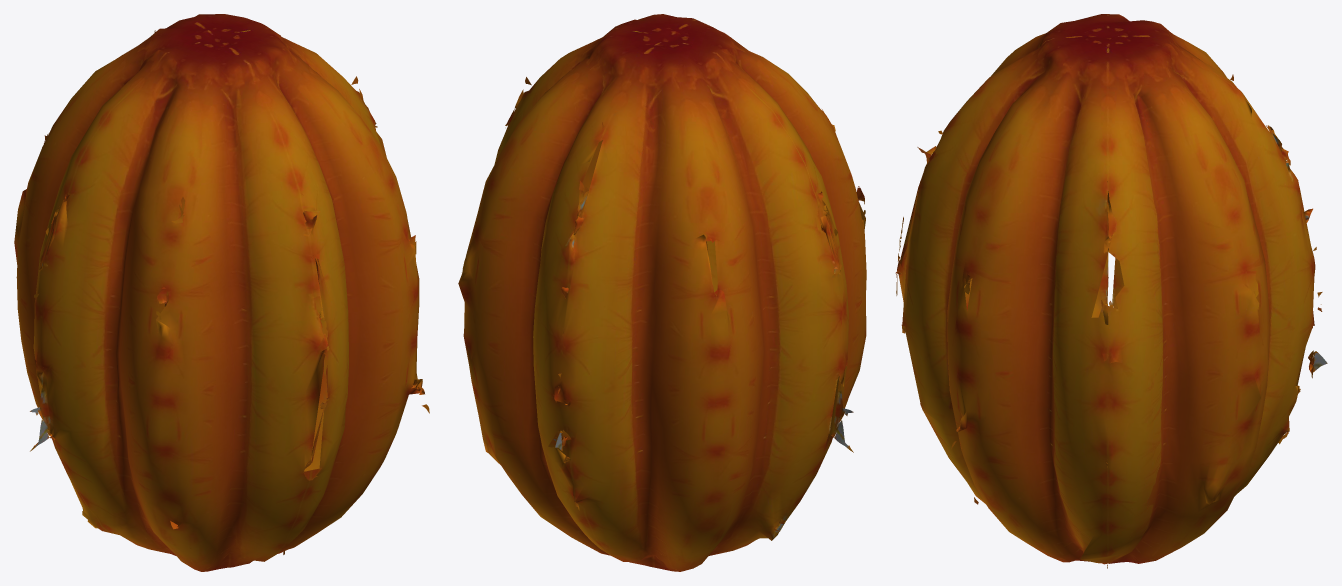
Rendered from cactus_seed.fbx.
3 renders of one model, left to right at view 1: azimuth 30°, elevation 25°; view 2: azimuth 150°, elevation 25°; view 3: azimuth 270°, elevation 25°, orthographic.
Parts seen in each view (by area): view 1: tripo_node_ce50bfad; view 2: tripo_node_ce50bfad; view 3: tripo_node_ce50bfad.
Boxes of the visible parts, box(x1,y1,x2,y2) form: tripo_node_ce50bfad: box(14, 14, 429, 571); tripo_node_ce50bfad: box(458, 14, 866, 571); tripo_node_ce50bfad: box(895, 14, 1327, 568).
Size of the model in its own units: 0.6886 by 0.9238 by 0.6958.
Materials: 1 (1 with a texture image).
